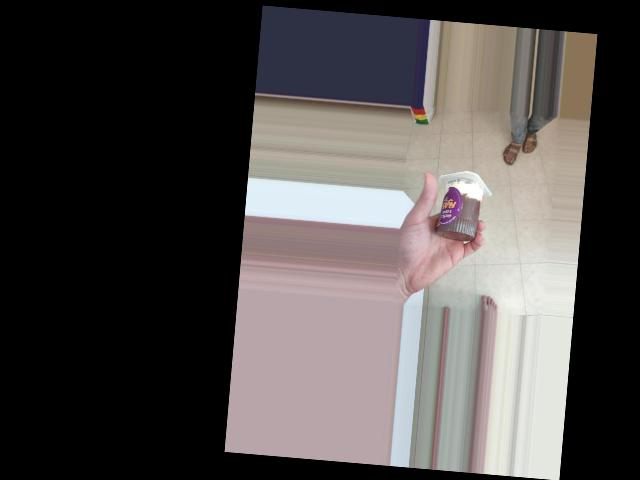milky: (432, 165, 491, 248)
